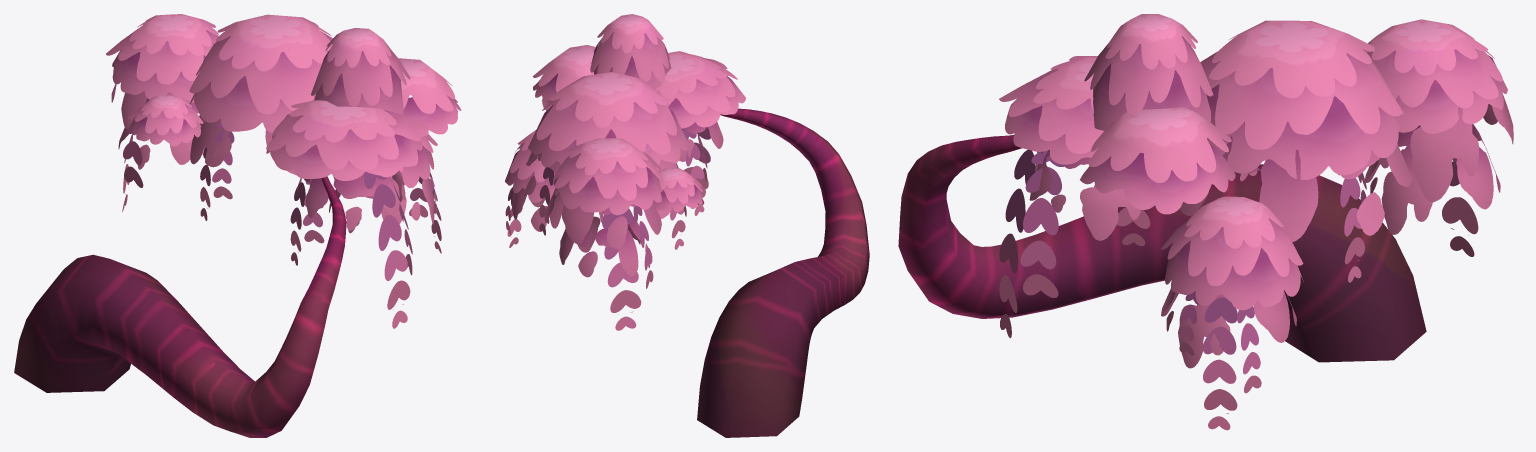
Rendered from SM_Tree_Big.fbx.
The picture shows the model from 3 angles, left to right: view 1: azimuth 30°, elevation 25°; view 2: azimuth 150°, elevation 25°; view 3: azimuth 270°, elevation 25°; orthographic projection. The views are drawn at different scales.
Visible parts, largest first — view 1: SM_Tree_Big_Leaves, SM_Tree_Big_Trunk, SM_Tree_Big_DroopingPlants; view 2: SM_Tree_Big_Leaves, SM_Tree_Big_Trunk, SM_Tree_Big_DroopingPlants; view 3: SM_Tree_Big_Leaves, SM_Tree_Big_Trunk, SM_Tree_Big_DroopingPlants.
Part boxes in pixels (x1,y1,x2,y2): SM_Tree_Big_Leaves: (106,14,461,187); SM_Tree_Big_Trunk: (14,176,346,437); SM_Tree_Big_DroopingPlants: (111,84,441,328); SM_Tree_Big_Leaves: (505,14,745,218); SM_Tree_Big_Trunk: (697,108,869,437); SM_Tree_Big_DroopingPlants: (505,122,723,330); SM_Tree_Big_Leaves: (999,14,1507,310); SM_Tree_Big_Trunk: (898,135,1426,362); SM_Tree_Big_DroopingPlants: (999,95,1513,430).
Size of the model in its own units: 19.28 by 17.22 by 21.91.
